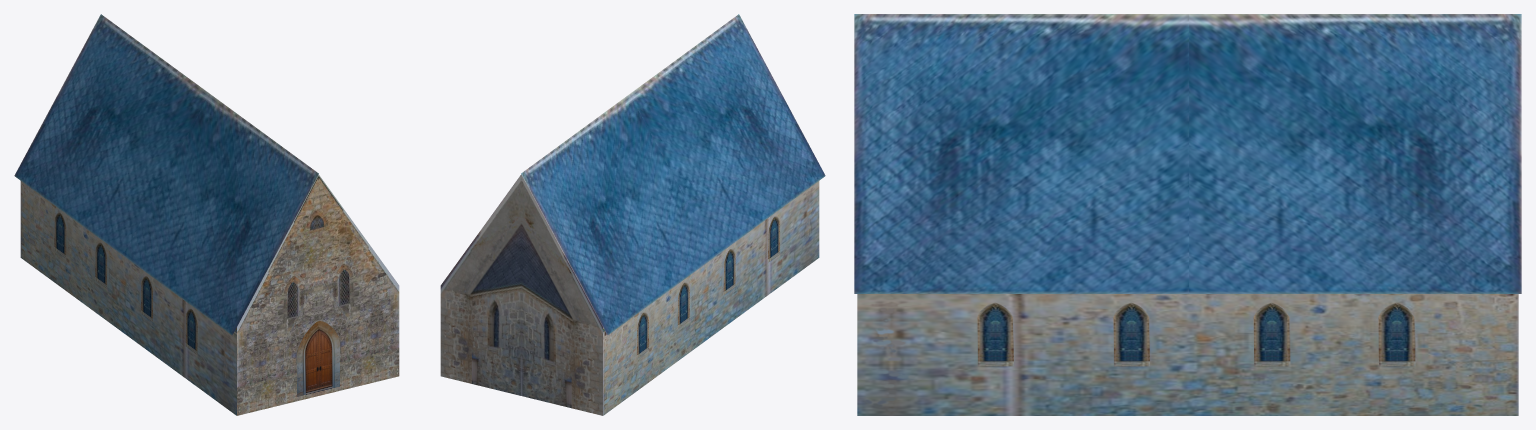
Rendered from church-small-19x8-cbj_LOD03.gltf.
3 views of the same model, side by side, from view 1: azimuth 30°, elevation 25°; view 2: azimuth 150°, elevation 25°; view 3: azimuth 270°, elevation 25° (orthographic). The views are drawn at different scales.
Visible parts, largest first — view 1: Cube.004; view 2: Cube.004; view 3: Cube.004.
Part boxes in pixels (x1,y1,x2,y2): Cube.004: (14, 14, 399, 415); Cube.004: (440, 14, 825, 415); Cube.004: (854, 14, 1521, 415).
Size of what is drawn, in the model's own units: 7.6 by 9.35 by 16.56.
